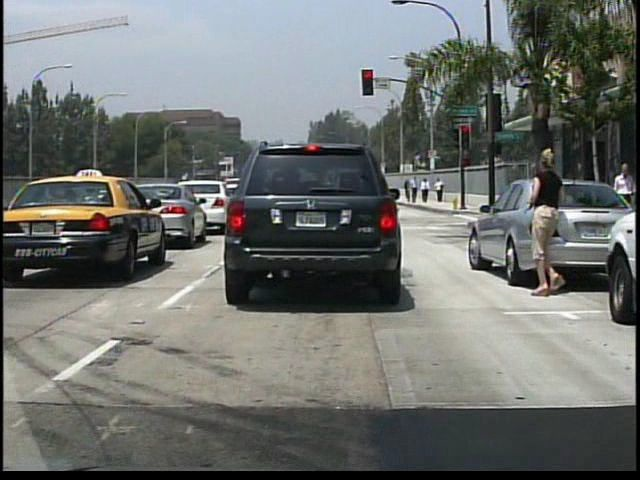person: (520, 138, 579, 297), (607, 160, 636, 235), (434, 176, 445, 203), (410, 176, 420, 203), (421, 177, 430, 204), (405, 178, 413, 200)
